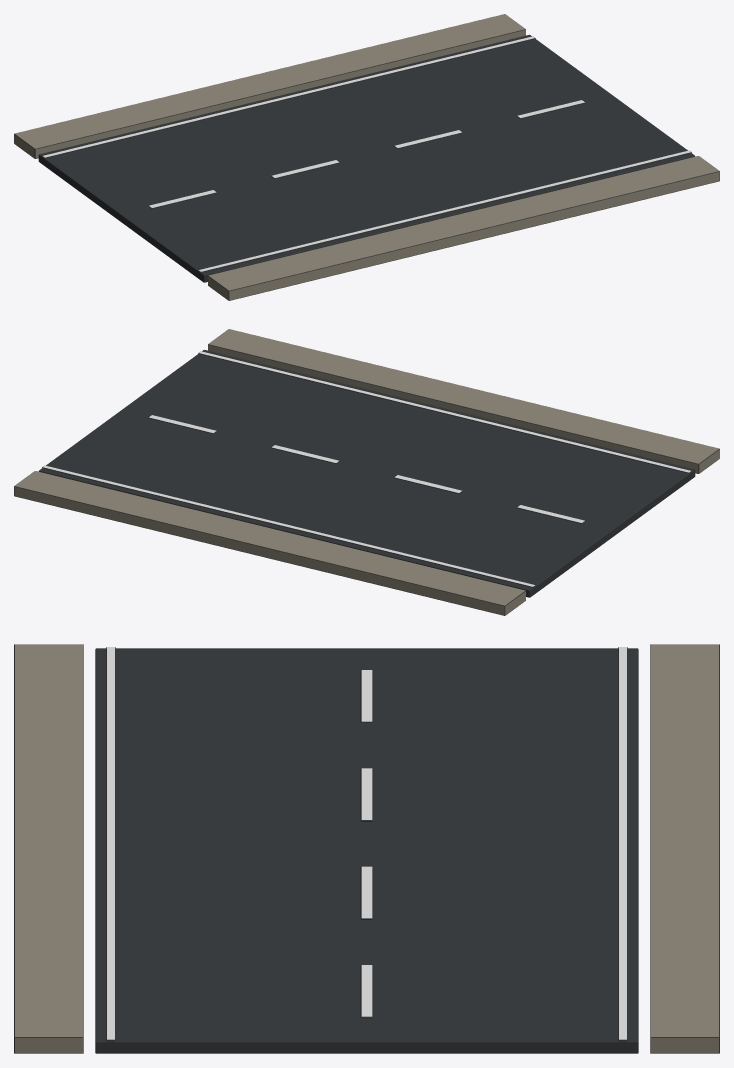
File: prp_road_straight.glb
3 renders of one model, top to bottom at view 1: azimuth 30°, elevation 25°; view 2: azimuth 150°, elevation 25°; view 3: azimuth 270°, elevation 25°, orthographic. The views are drawn at different scales.
Parts seen in each view (by area): view 1: prp_road_straight; view 2: prp_road_straight; view 3: prp_road_straight.
Boxes of the visible parts, x1,y1,x2,y2 form: prp_road_straight: [14, 14, 719, 300]; prp_road_straight: [14, 329, 719, 615]; prp_road_straight: [14, 644, 719, 1053].
Size of the model in its own units: 12 by 0.24 by 9.1.
